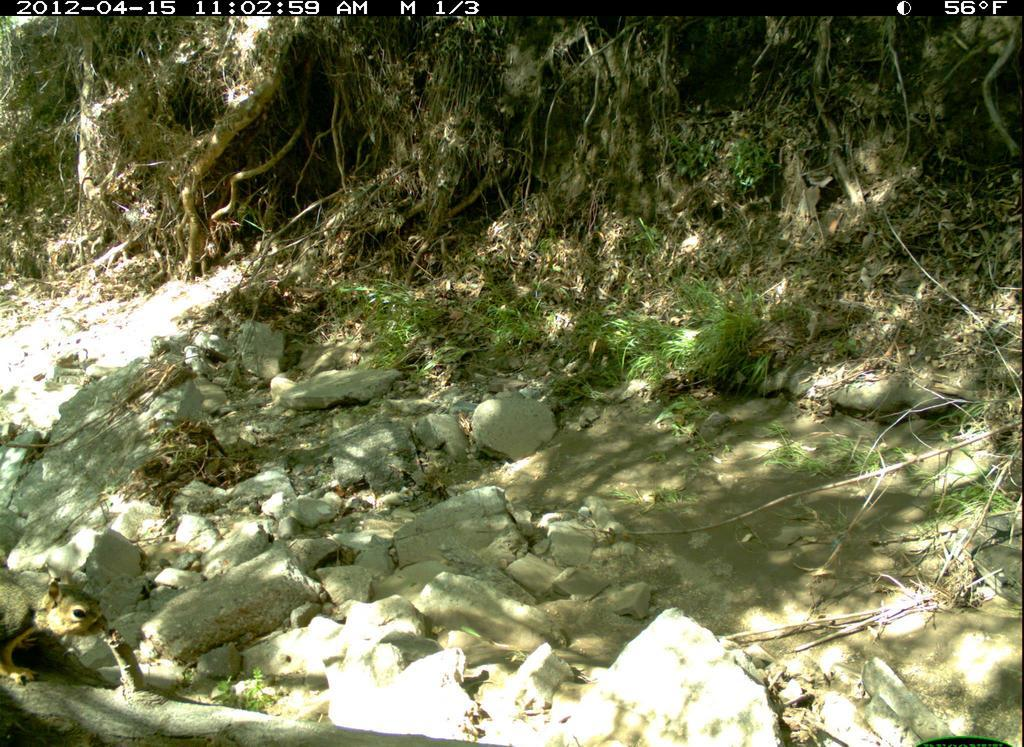squirrel: (2, 564, 118, 697)
